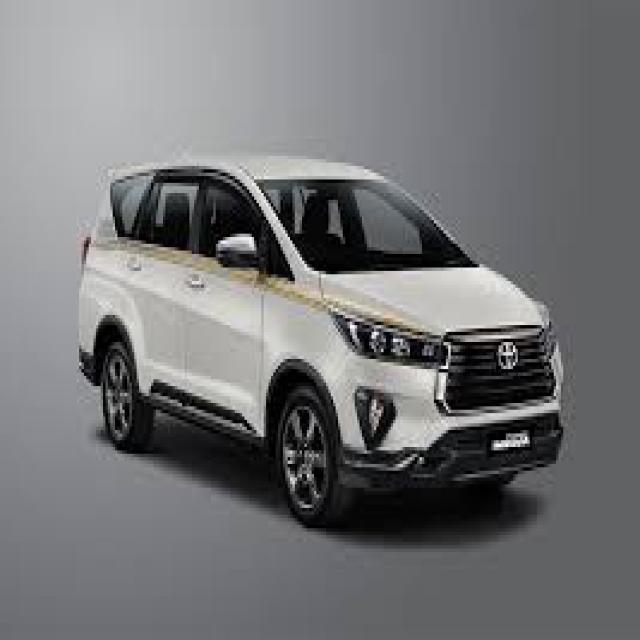light_vehicle: (78, 155, 563, 525)
